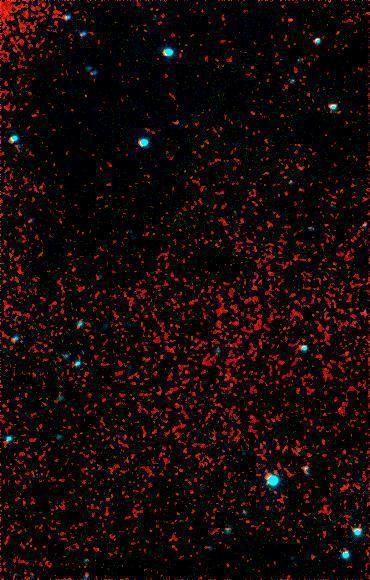star: (273, 3, 303, 33)
